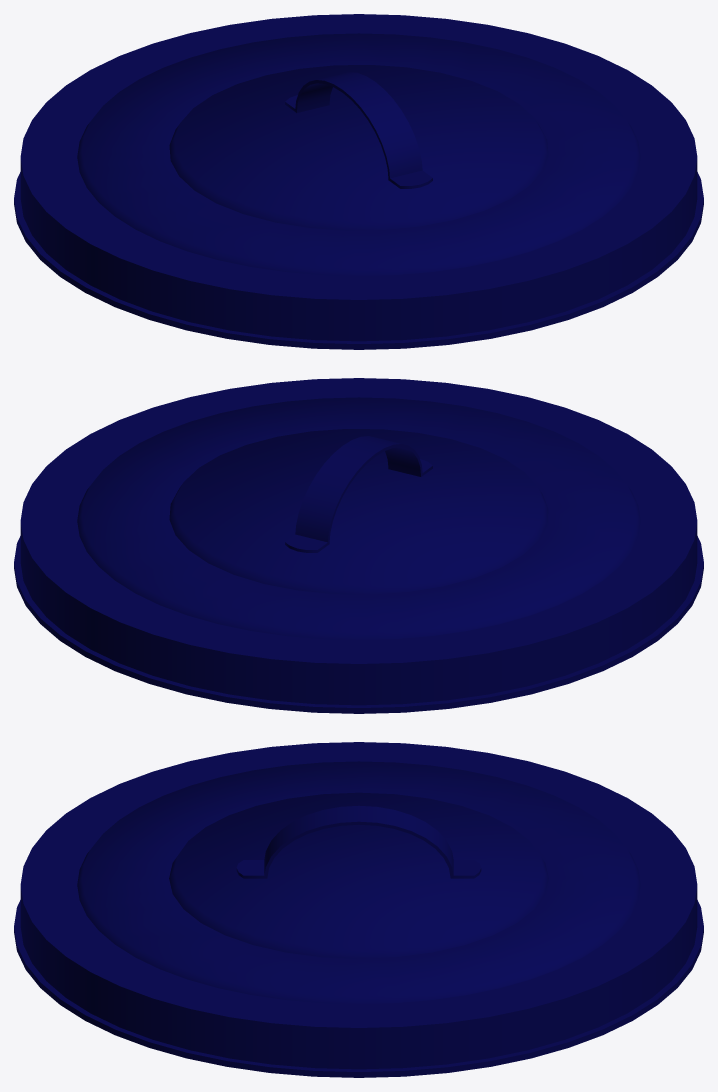
File: SM_TrashBinCap.fbx
The picture shows the model from 3 angles, top to bottom: view 1: azimuth 30°, elevation 25°; view 2: azimuth 150°, elevation 25°; view 3: azimuth 270°, elevation 25°; orthographic projection.
Visible parts, largest first — view 1: TrashBinCap; view 2: TrashBinCap; view 3: TrashBinCap.
Part boxes in pixels (x1,y1,x2,y2): TrashBinCap: (14,14,703,349); TrashBinCap: (14,378,703,713); TrashBinCap: (14,742,703,1077).
Size of the model in its own units: 49.85 by 9.44 by 49.85.
